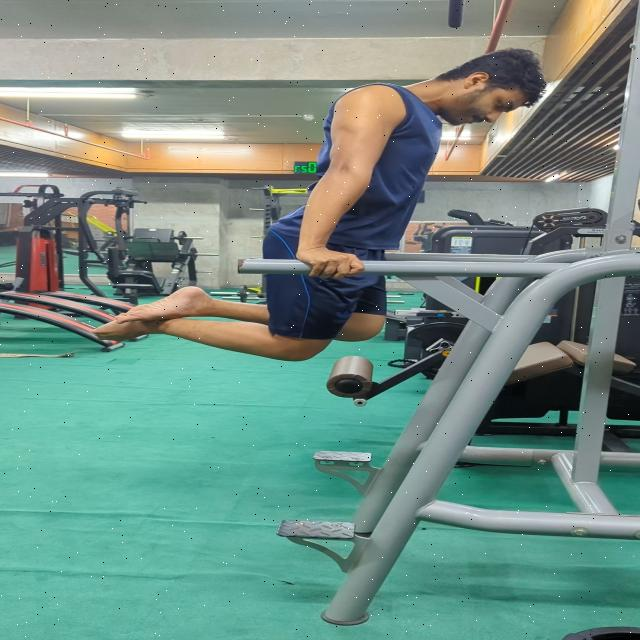Normal_Dips: (83, 40, 557, 367)
